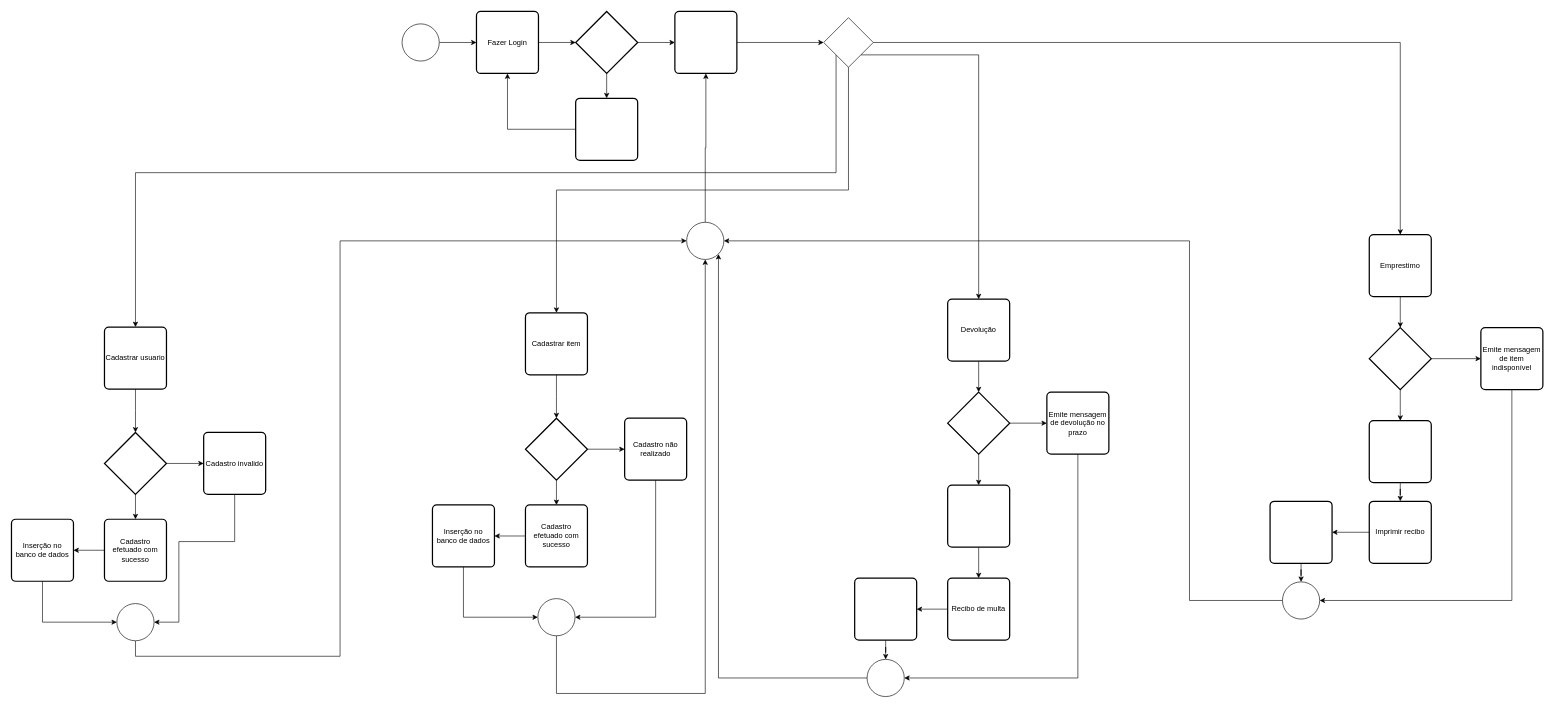
Some shapes in this 1554 by 709 pixel diagram are drawn without their labels. Each missing label, with the centre of its shape:
"Abre interface" goes at point 705,42.
"Emitir mensagem após o prazo" goes at point 978,515.
"Exibe mensagem de item emprestado com sucesso" goes at point 1400,451.
"Imprime" goes at point 1300,532.
"Imprime a multa" goes at point 885,608.
"Senha incorreta" goes at point 606,129.
